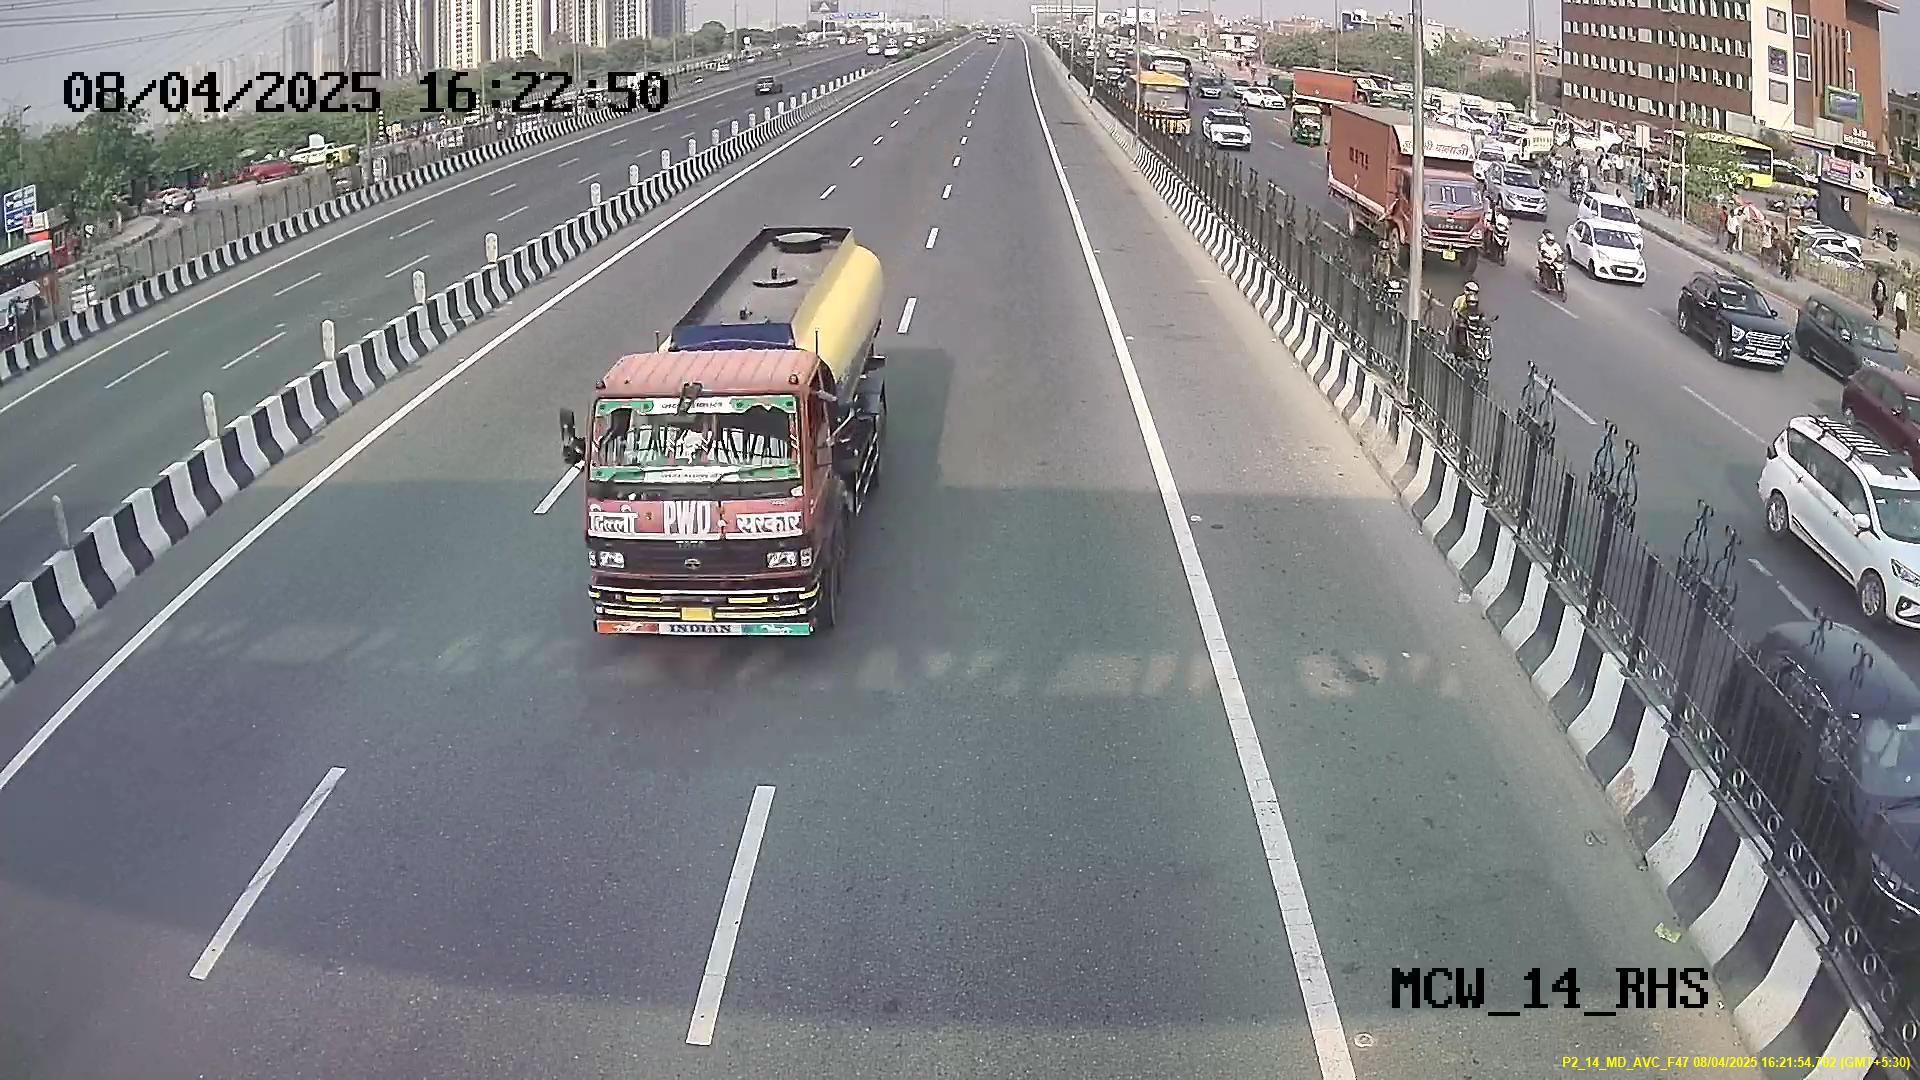lcv: (584, 360, 829, 646)
